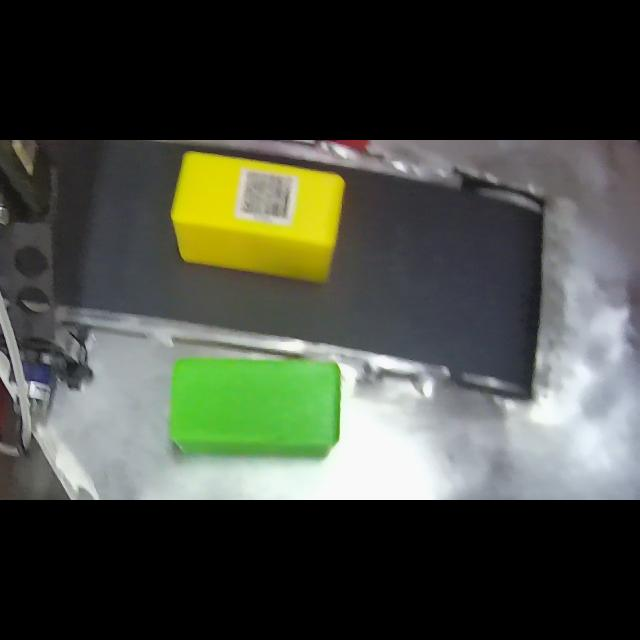greenBox: (160, 352, 348, 460)
yellowBox: (163, 146, 355, 288)
